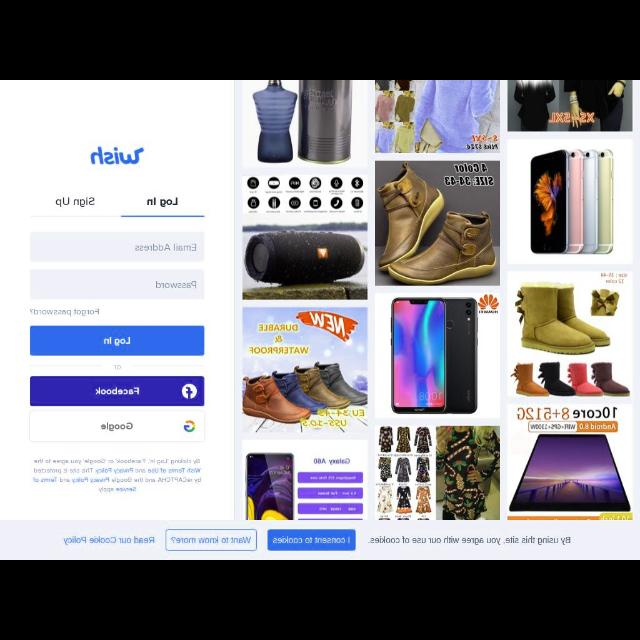image: (508, 272, 632, 400), (506, 140, 632, 264), (375, 160, 499, 286), (376, 293, 498, 419), (244, 176, 366, 300), (244, 308, 366, 430), (508, 405, 632, 511), (376, 426, 498, 520), (244, 82, 366, 168), (247, 439, 367, 521), (375, 80, 499, 152), (508, 80, 632, 130), (90, 144, 144, 166), (182, 383, 196, 399), (184, 418, 196, 432)
input: (32, 232, 204, 262), (31, 270, 202, 300)
multitab: (33, 193, 203, 214)
text: (32, 459, 202, 493), (371, 536, 571, 546), (170, 535, 252, 547), (62, 536, 156, 546), (272, 536, 352, 546), (136, 242, 198, 254), (30, 307, 101, 317), (56, 196, 98, 210), (94, 387, 140, 397), (154, 280, 196, 290), (147, 195, 179, 208), (101, 421, 135, 431), (105, 336, 132, 346), (114, 364, 122, 370)
textbutton: (32, 326, 204, 356), (29, 412, 203, 441), (31, 376, 203, 404), (269, 530, 355, 552), (166, 530, 256, 550)
